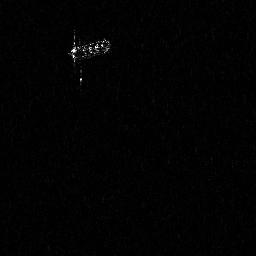ship: (66, 28, 113, 87)
